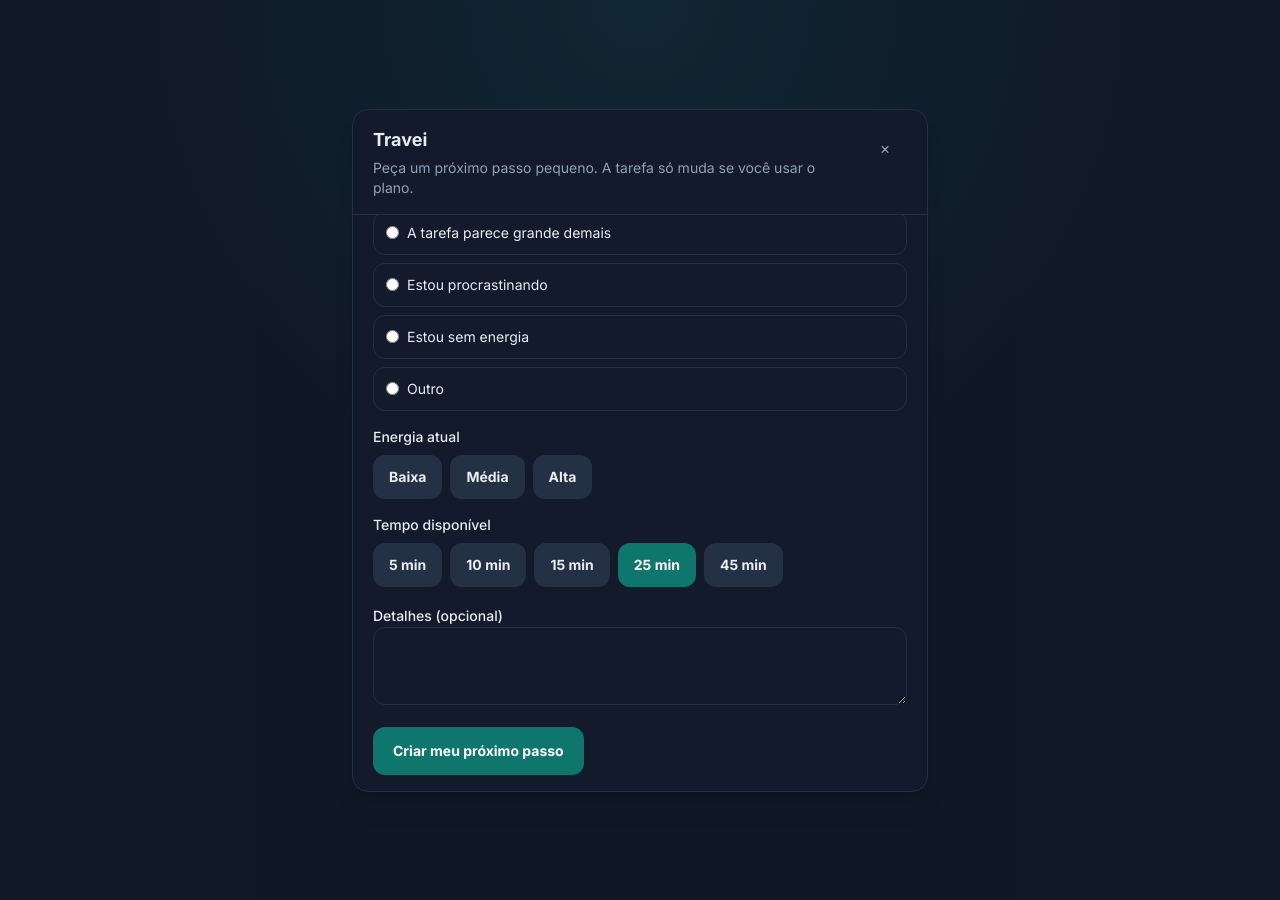
Test: Travei apply identity › focuses the first useful control and keeps a single dialog
(page scrolled)
Expected: the number of dialogs is 1, [352, 108, 928, 792]
Click the button "Criar meu próximo passo": [478, 750] box [373, 726, 584, 774]
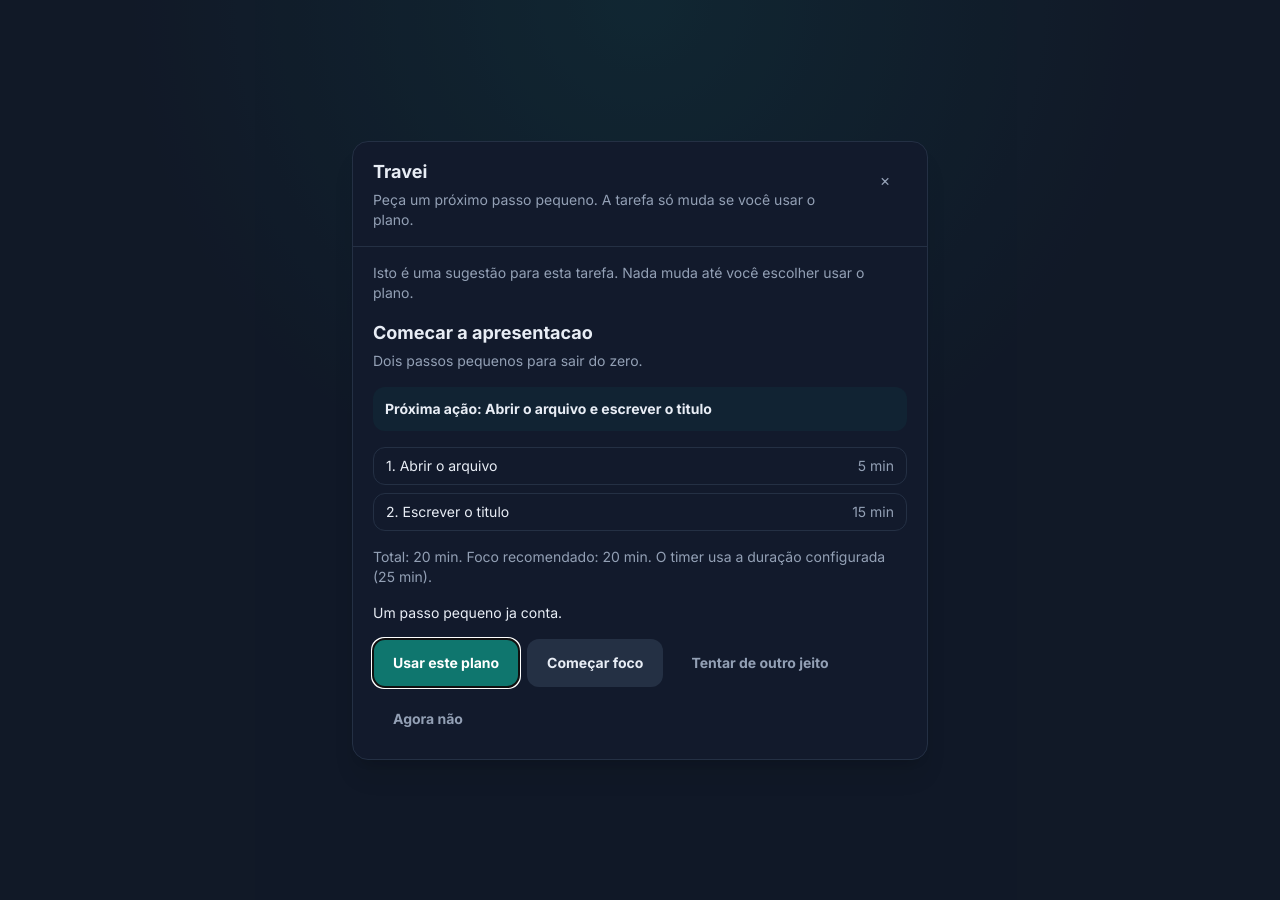
Click the button "Usar este plano": [446, 662] box [373, 638, 519, 686]
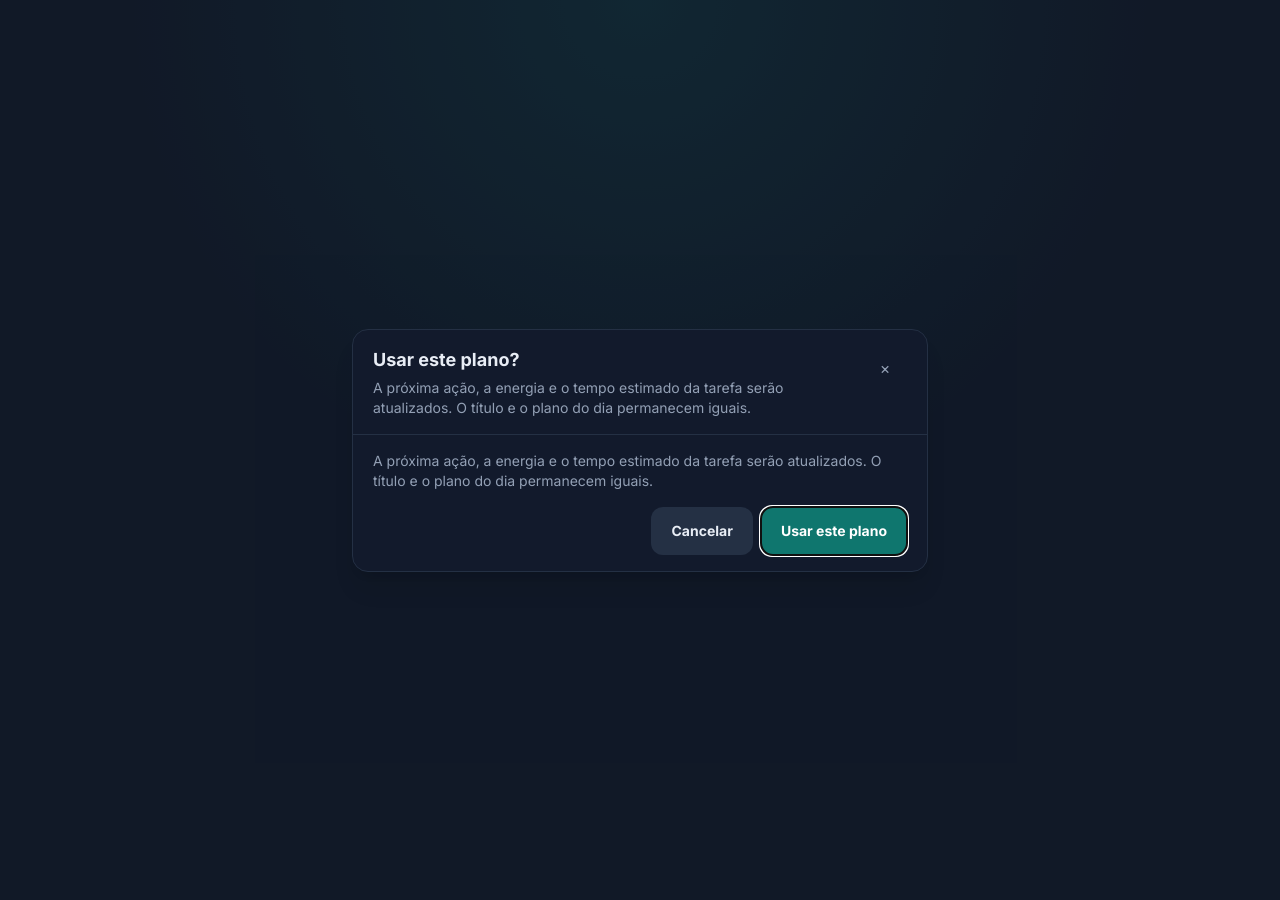
Expected: the number of dialogs is 1, [352, 328, 928, 572]
Press Escape
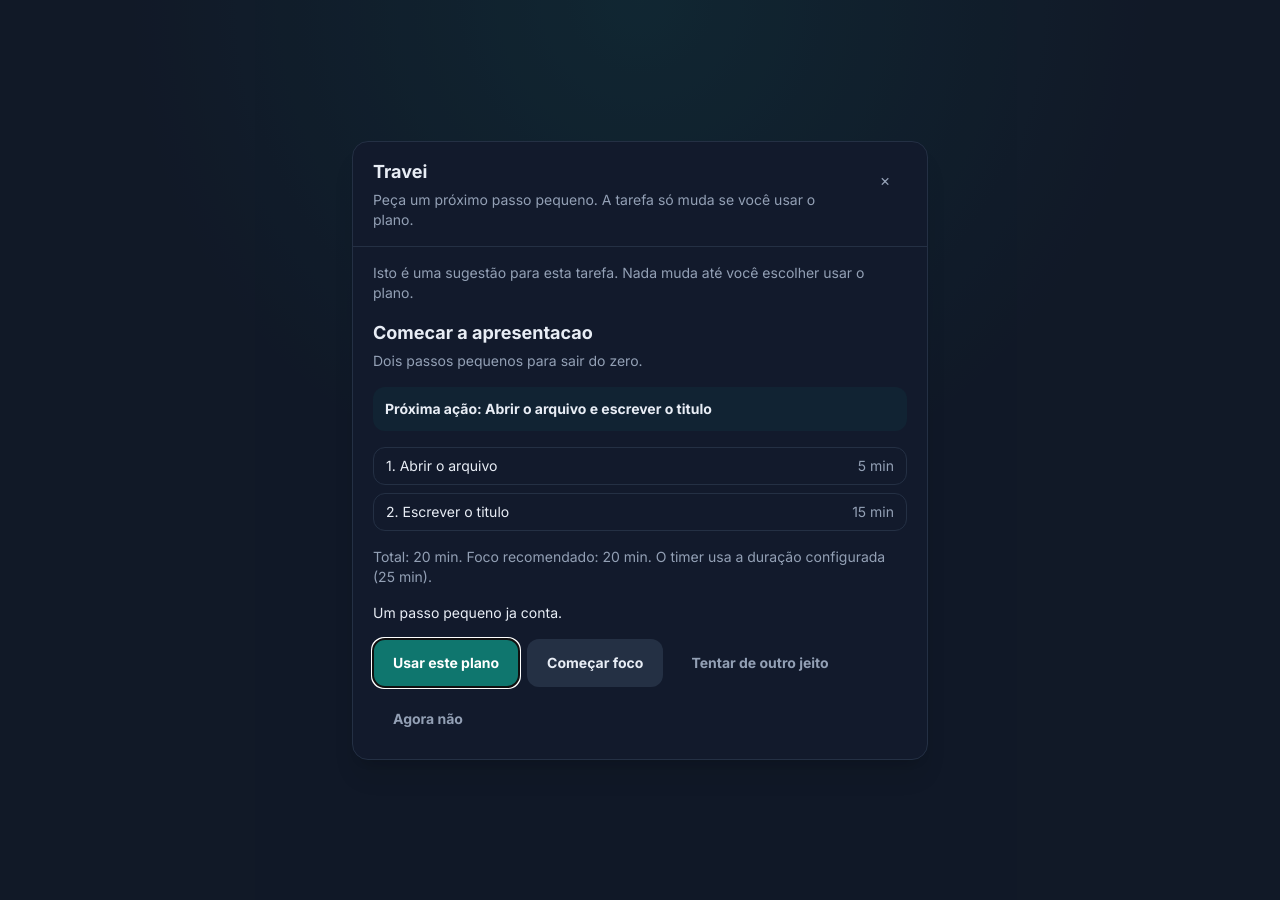
Result: the button "Começar foco" is shown at [527, 638, 663, 686]
